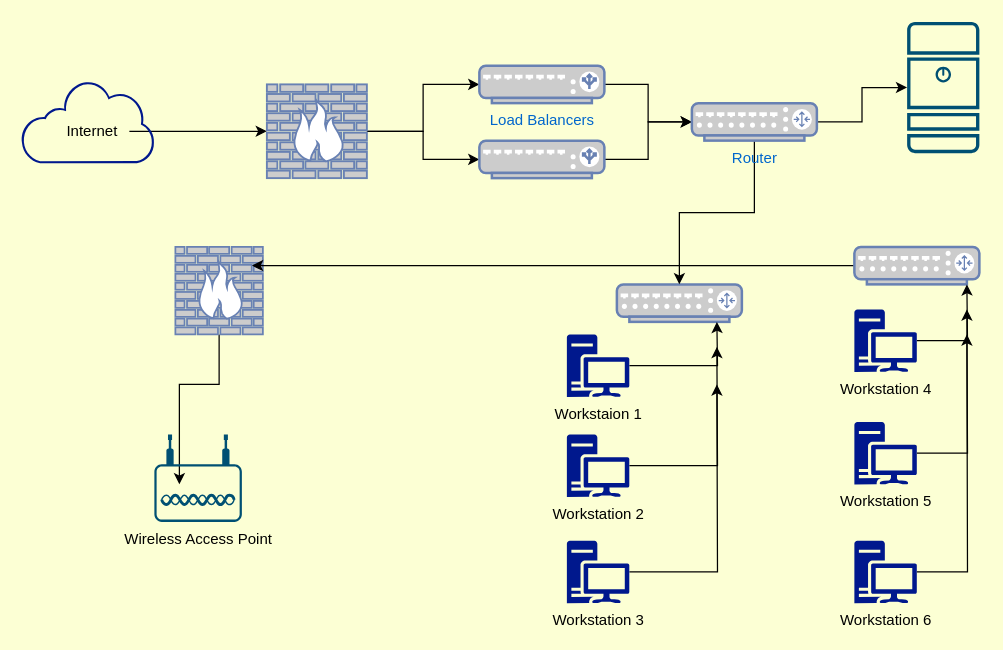
The diagram is 1003 pixels wide and 650 high, and some of its shapes have lost their labels. The centre of each missing label's shape, as x and y in pixels:
"Firewall" belongs at point (316, 130).
"Firewall for Wireless" belongs at point (219, 290).
"Server" belongs at point (942, 86).
"Switch 1" belongs at point (678, 302).
"Switch 2" belongs at point (916, 265).
